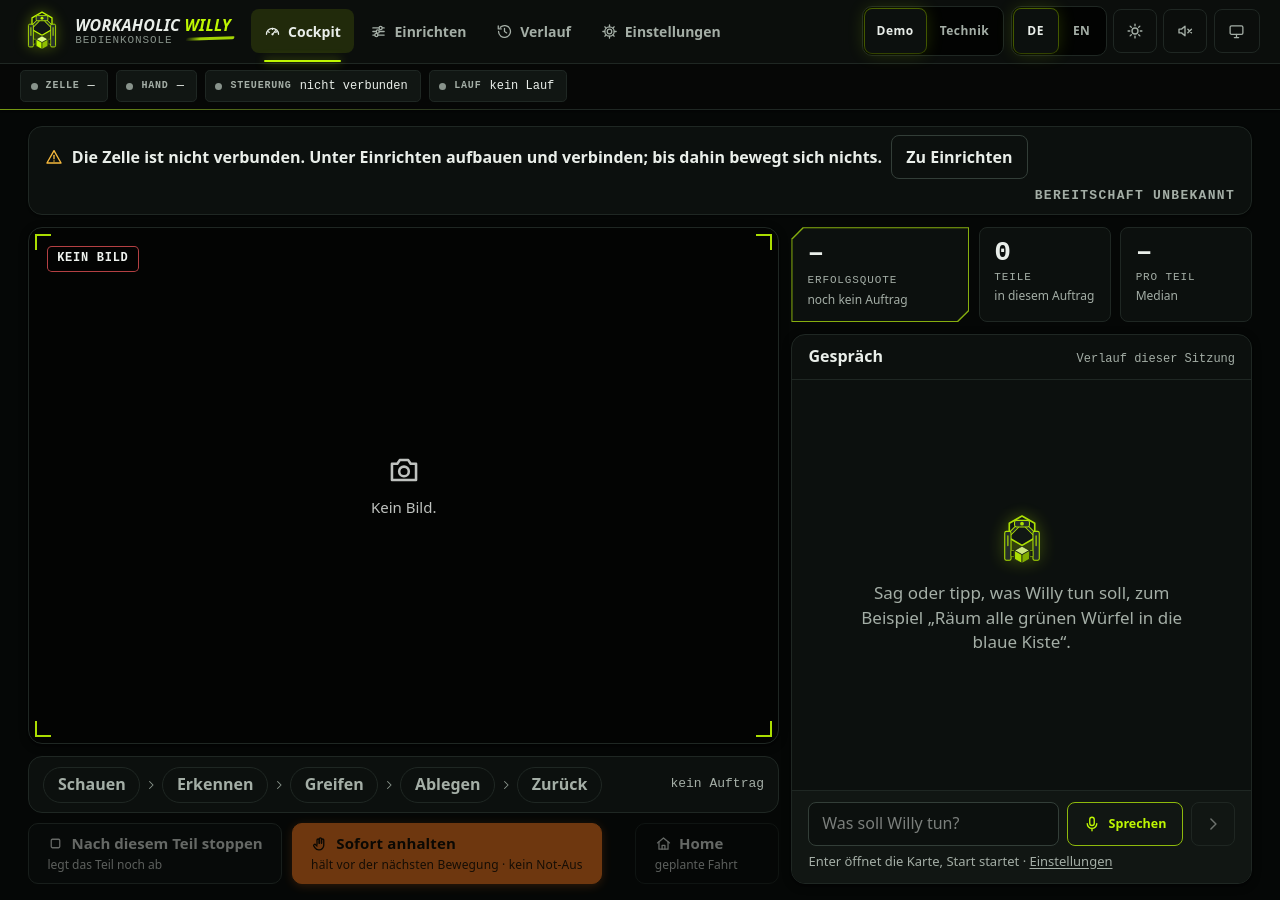
Test: the top bar › offers Diagnostics in the tech view only
Check: the button "Diagnose" is not shown
Click the button "Technik" at point(964, 31), box [928,9,1001,53]
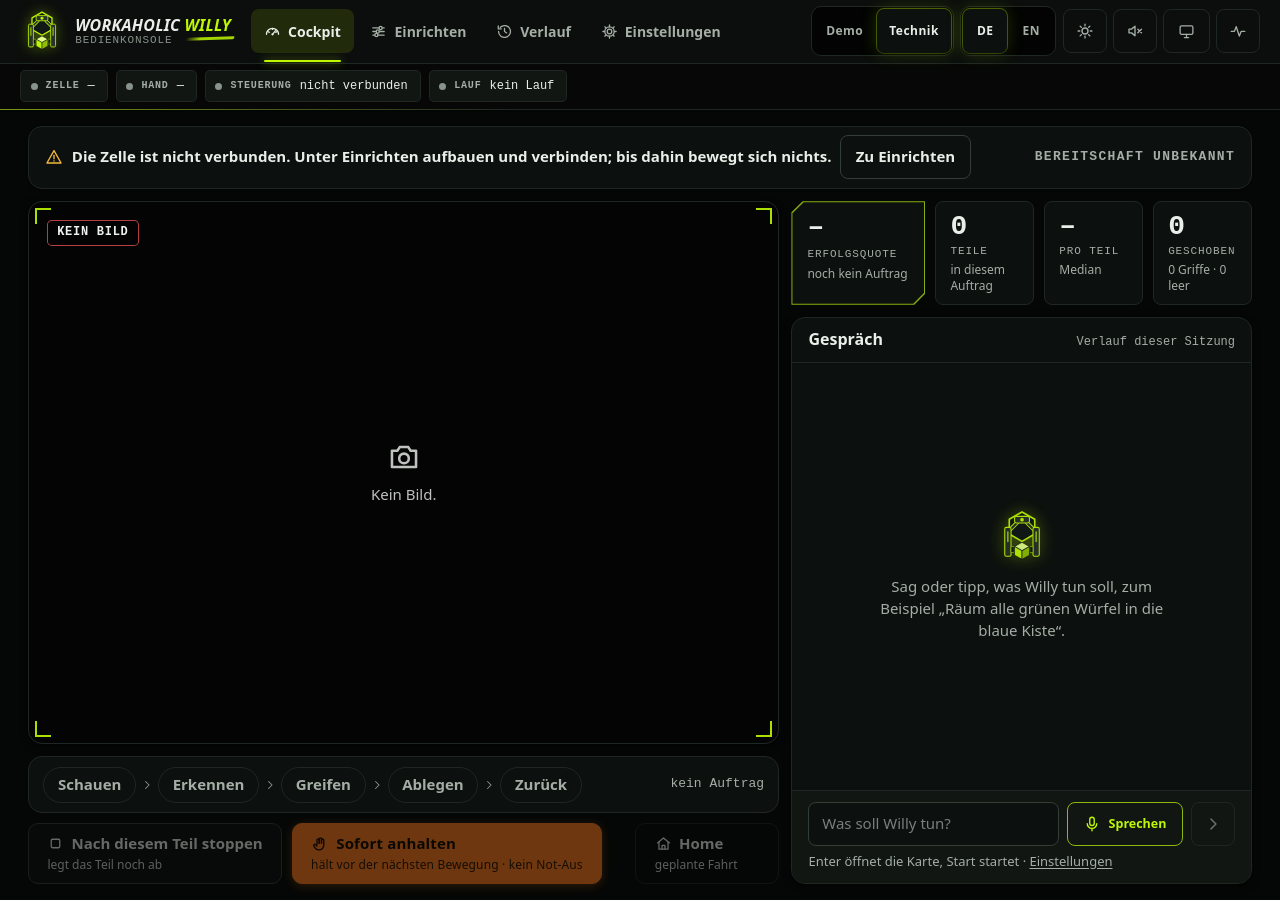
Click the button named "Diagnose" at point(1238, 31), box [1216,9,1260,53]
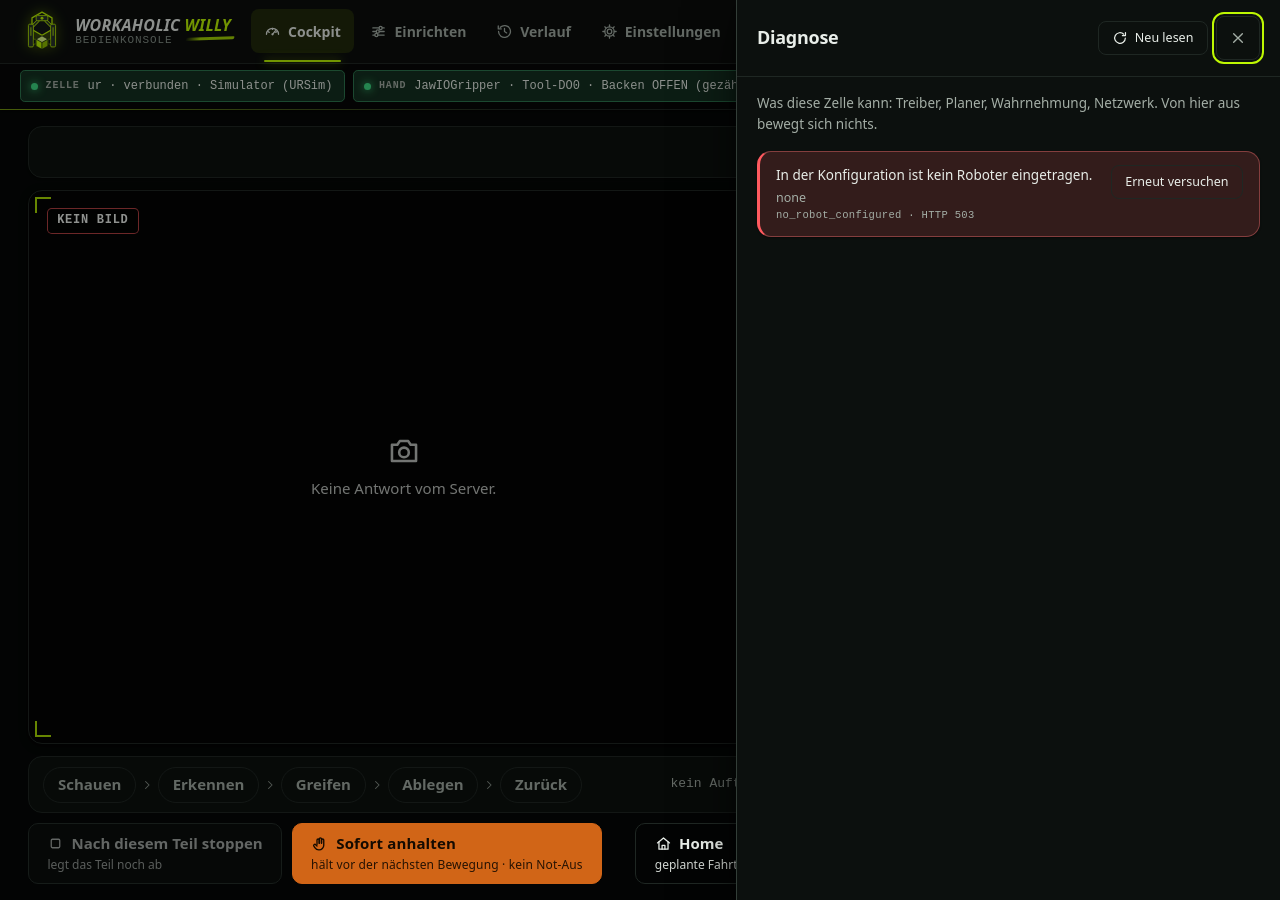
Check: the dialog "Diagnose" is shown, box [736,0,1279,899]
